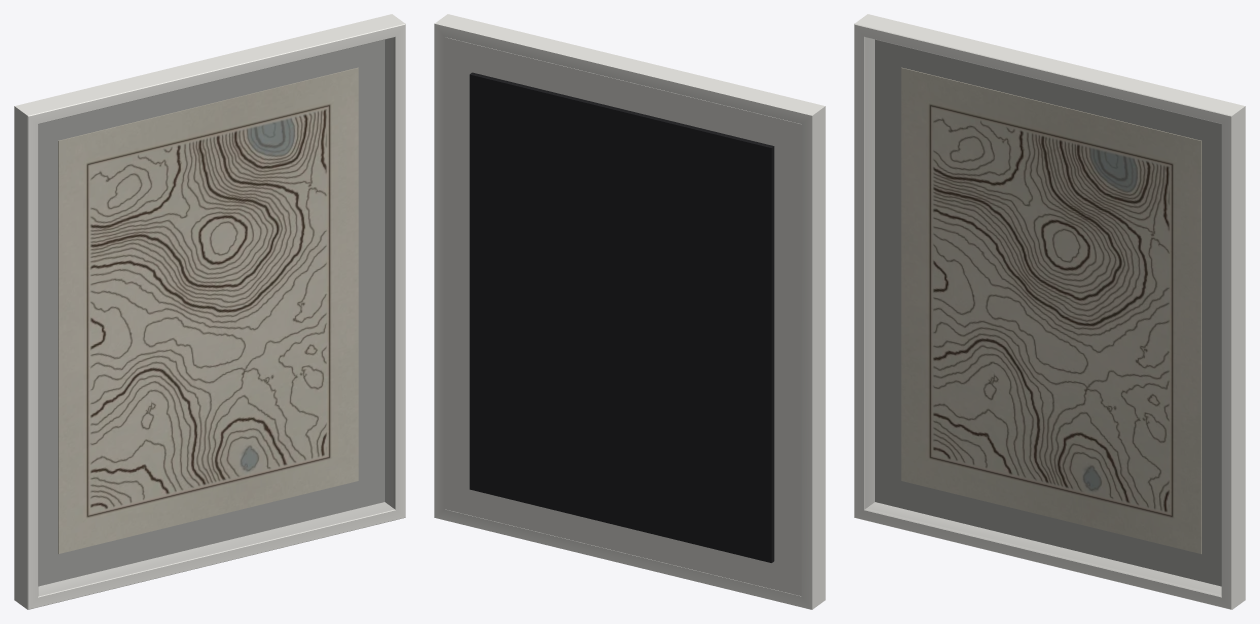
File: art_contour_map.gltf
The picture shows the model from 3 angles, left to right: view 1: azimuth 30°, elevation 25°; view 2: azimuth 150°, elevation 25°; view 3: azimuth 330°, elevation 25°; orthographic projection.
Parts seen in each view (by area): view 1: Art_ContourMap_Art, Art_ContourMap_Frame, Art_ContourMap_Backing; view 2: Art_ContourMap_Spacer, Art_ContourMap_Backing, Art_ContourMap_Frame; view 3: Art_ContourMap_Art, Art_ContourMap_Frame, Art_ContourMap_Backing.
Boxes of the visible parts, x1=… form: Art_ContourMap_Art: x1=58, y1=67, x2=358, y2=553; Art_ContourMap_Frame: x1=14, y1=14, x2=405, y2=609; Art_ContourMap_Backing: x1=38, y1=39, x2=384, y2=586; Art_ContourMap_Spacer: x1=469, y1=72, x2=774, y2=562; Art_ContourMap_Backing: x1=445, y1=37, x2=801, y2=596; Art_ContourMap_Frame: x1=434, y1=14, x2=825, y2=609; Art_ContourMap_Art: x1=901, y1=67, x2=1201, y2=553; Art_ContourMap_Frame: x1=854, y1=14, x2=1245, y2=609; Art_ContourMap_Backing: x1=875, y1=39, x2=1221, y2=586.
Size of the model in its own units: 0.8 by 1 by 0.06.
4 materials, 1 textured.
